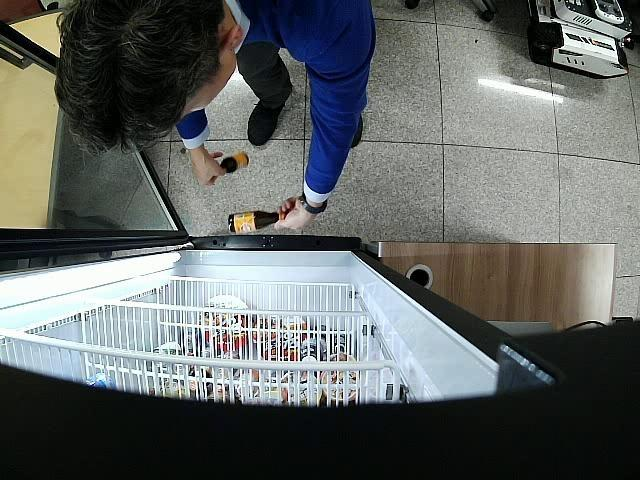17_vita500: (228, 210, 286, 234), (217, 152, 250, 175)
